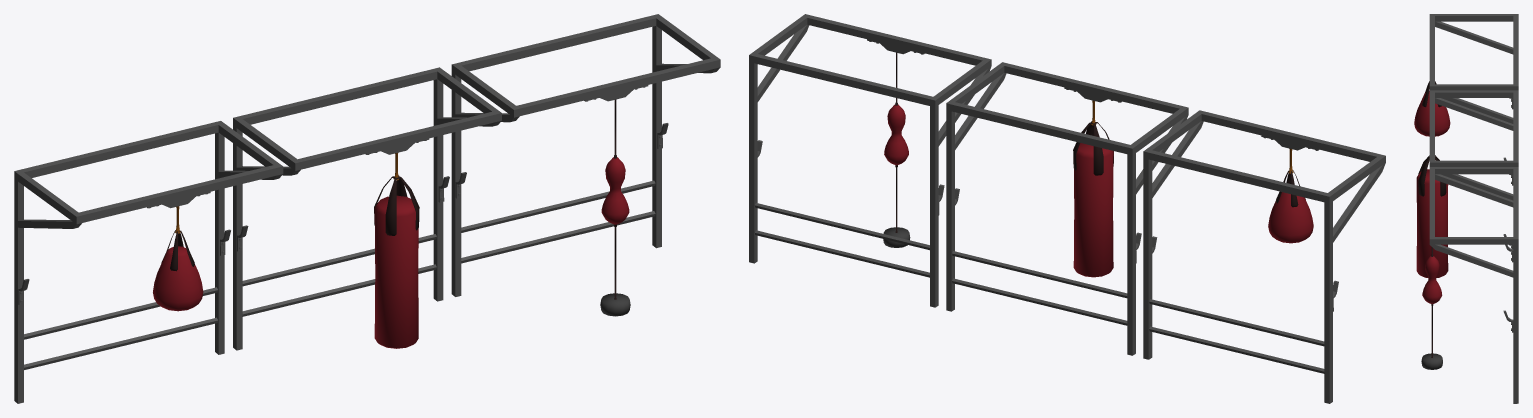
The model's file is boxing.fbx.
The picture shows the model from 3 angles, left to right: view 1: azimuth 30°, elevation 25°; view 2: azimuth 150°, elevation 25°; view 3: azimuth 270°, elevation 25°; orthographic projection. The views are drawn at different scales.
Visible parts, largest first — view 1: Cube.023, Cube.024, Cube.022; view 2: Cube.023, Cube.024, Cube.022; view 3: Cube.023, Cube.022, Cube.024.
Part boxes in pixels (box(x1,y1,x2,y2)): Cube.023: box(233, 67, 501, 350); Cube.024: box(14, 121, 283, 403); Cube.022: box(451, 14, 720, 316); Cube.023: box(946, 62, 1188, 355); Cube.024: box(1143, 110, 1385, 403); Cube.022: box(749, 14, 991, 307); Cube.023: box(1416, 90, 1518, 277); Cube.022: box(1421, 167, 1518, 403); Cube.024: box(1414, 14, 1518, 175).
Bounding box in the file's own units: 383 × 131 × 75.2.
